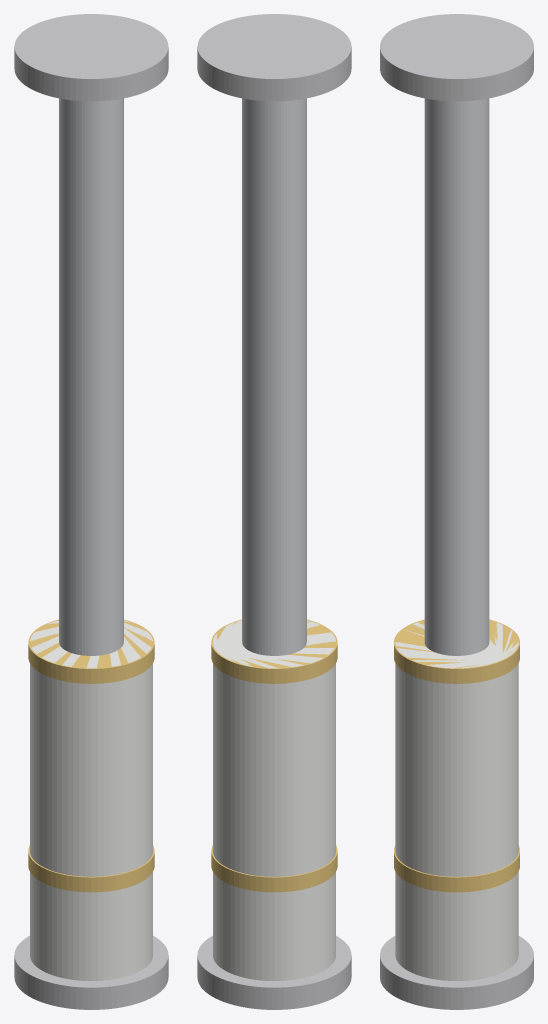
File: robo02_piston_xs_extended.glb
3 renders of one model, left to right at view 1: azimuth 30°, elevation 25°; view 2: azimuth 150°, elevation 25°; view 3: azimuth 270°, elevation 25°, orthographic.
Parts seen in each view (by area): view 1: barrel, rod, rod_plate, barrel_bands, base_plate; view 2: barrel, rod, rod_plate, base_plate, barrel_bands; view 3: barrel, rod, rod_plate, barrel_bands, base_plate.
Part boxes in pixels (bbox=[...]): barrel: bbox=[30, 620, 152, 980]; rod: bbox=[59, 98, 123, 655]; rod_plate: bbox=[14, 14, 168, 101]; barrel_bands: bbox=[28, 619, 154, 892]; base_plate: bbox=[14, 935, 168, 1009]; barrel: bbox=[213, 620, 335, 980]; rod: bbox=[242, 98, 306, 655]; rod_plate: bbox=[197, 14, 351, 101]; base_plate: bbox=[197, 935, 351, 1009]; barrel_bands: bbox=[211, 619, 337, 892]; barrel: bbox=[395, 622, 518, 980]; rod: bbox=[424, 98, 489, 655]; rod_plate: bbox=[380, 14, 533, 101]; barrel_bands: bbox=[394, 619, 519, 892]; base_plate: bbox=[380, 936, 533, 1009].
Bounding box in the file's own units: 0.15 × 1 × 0.1499.
